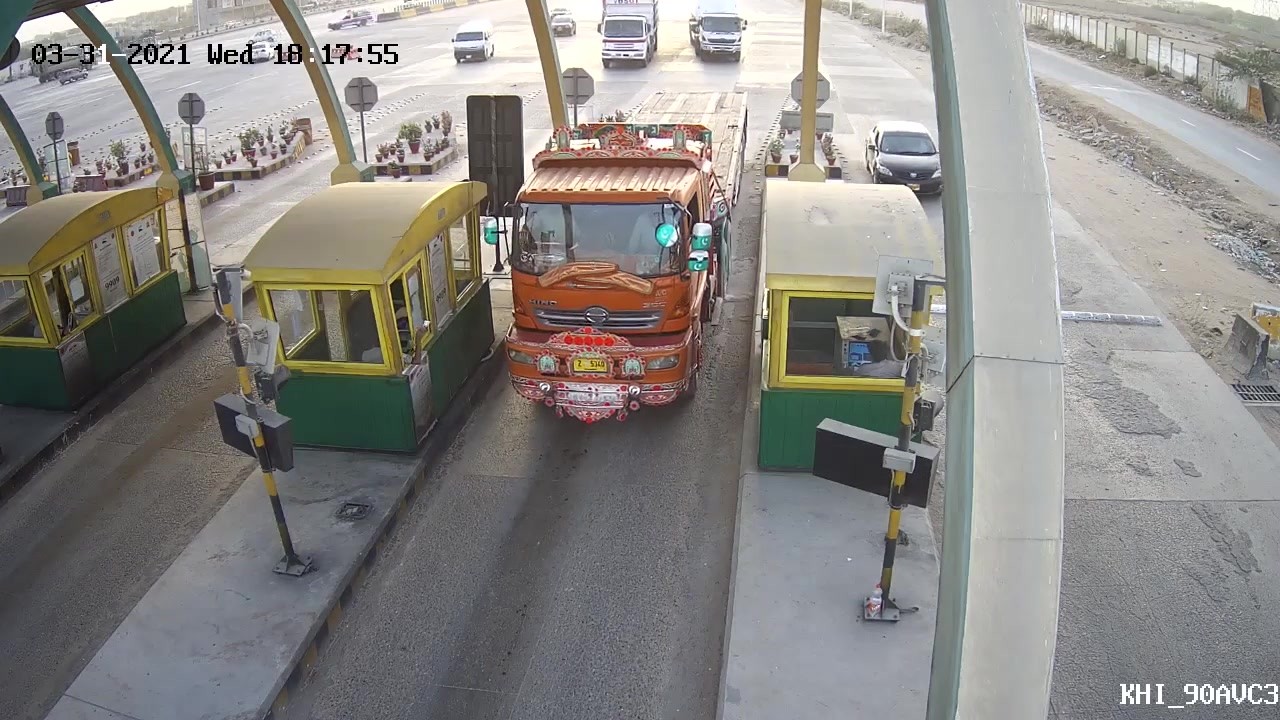F6: (480, 109, 731, 434)
